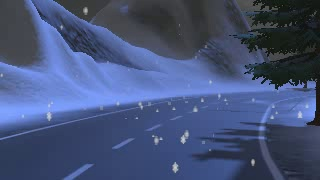Lane: (0, 87, 317, 179)
